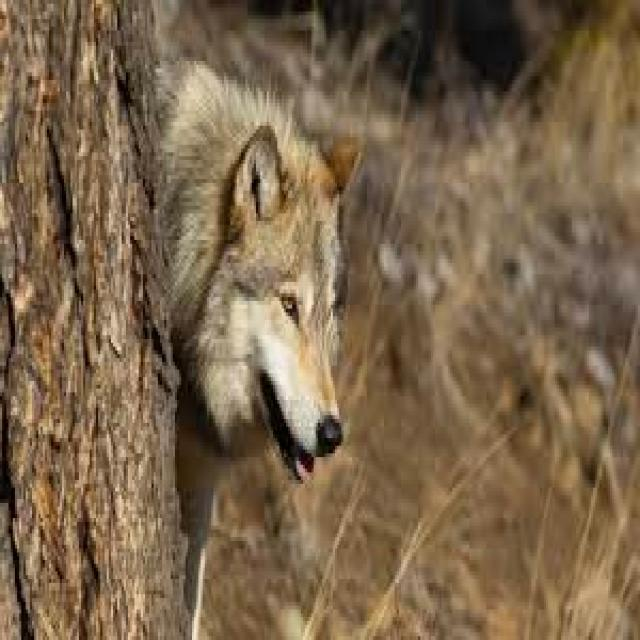wolf: (156, 61, 361, 606)
